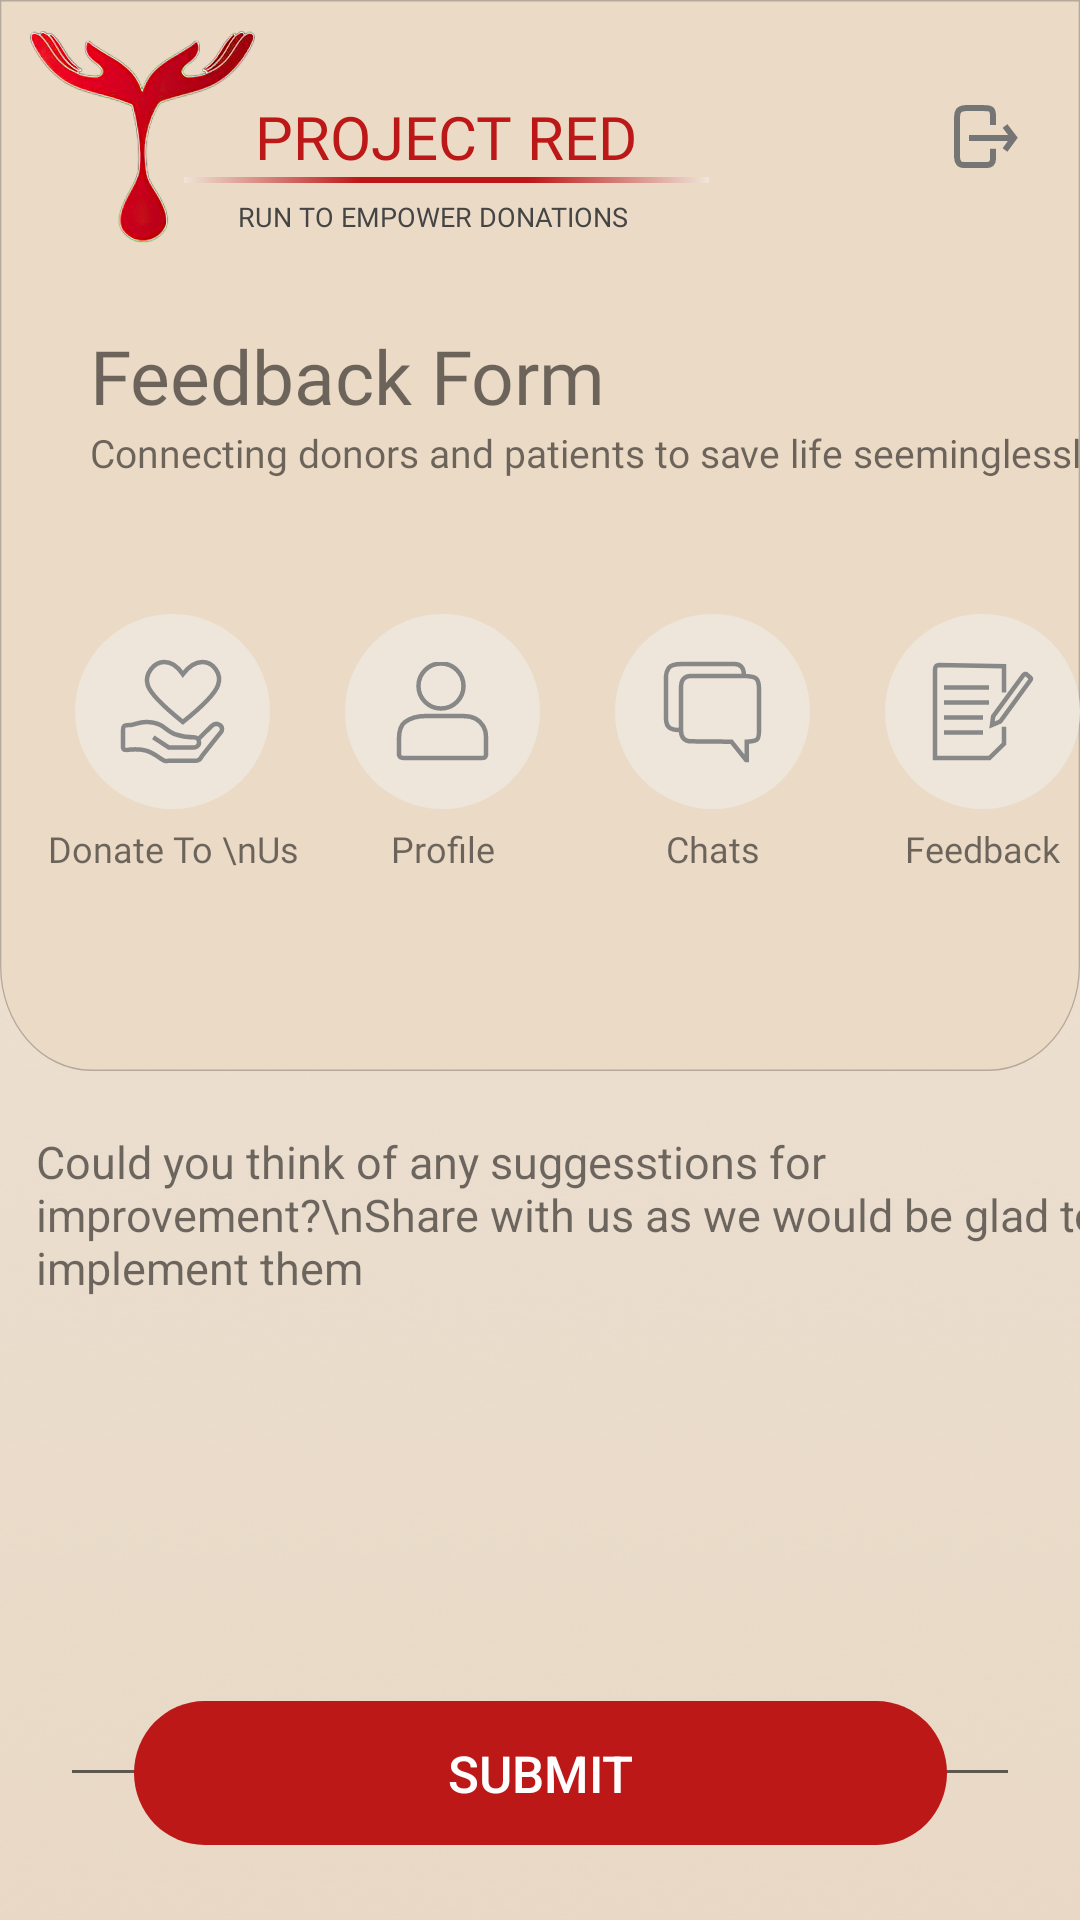

Point at icon controls on the screen. Image size 1080 × 1920, points as point (x, y).
donation: point (172, 711)
